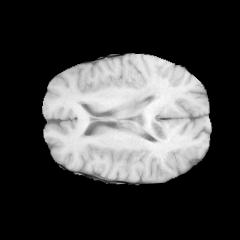glioma: (123, 83, 168, 140)
